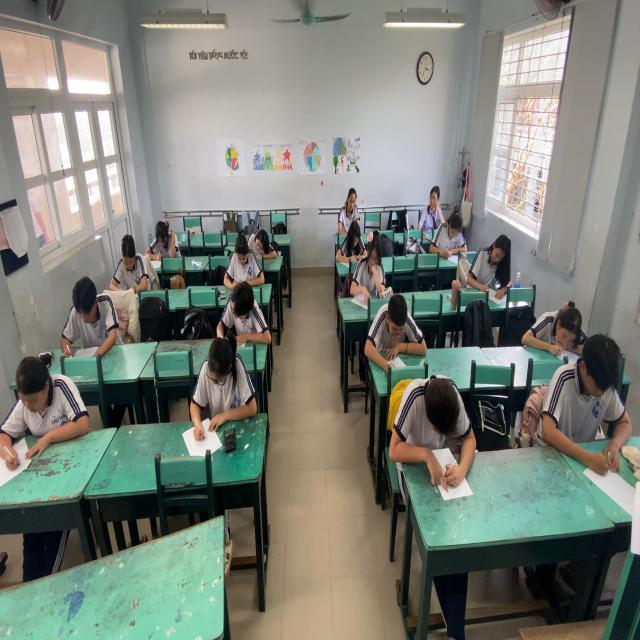cheating: (222, 280, 270, 342), (416, 179, 447, 228)
not_cheating: (547, 331, 626, 484), (390, 371, 469, 488), (0, 352, 87, 452), (59, 268, 117, 358), (197, 338, 256, 424), (522, 292, 586, 352), (368, 282, 414, 360), (462, 232, 515, 298), (111, 235, 152, 301), (358, 232, 388, 300), (225, 234, 264, 284), (149, 211, 178, 269), (335, 215, 371, 261), (434, 209, 468, 257), (330, 190, 366, 229), (249, 217, 276, 257)
